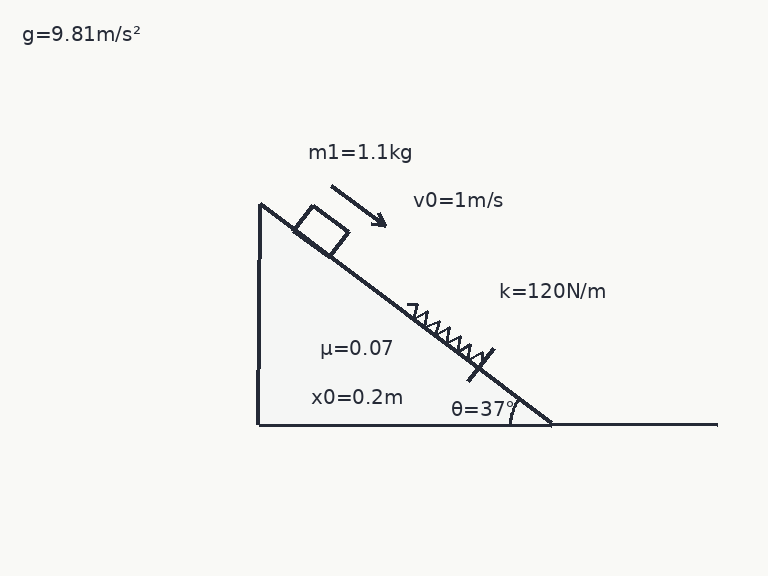block: (291, 203, 350, 259)
ramp: (256, 202, 552, 426)
spring: (405, 301, 485, 364)
